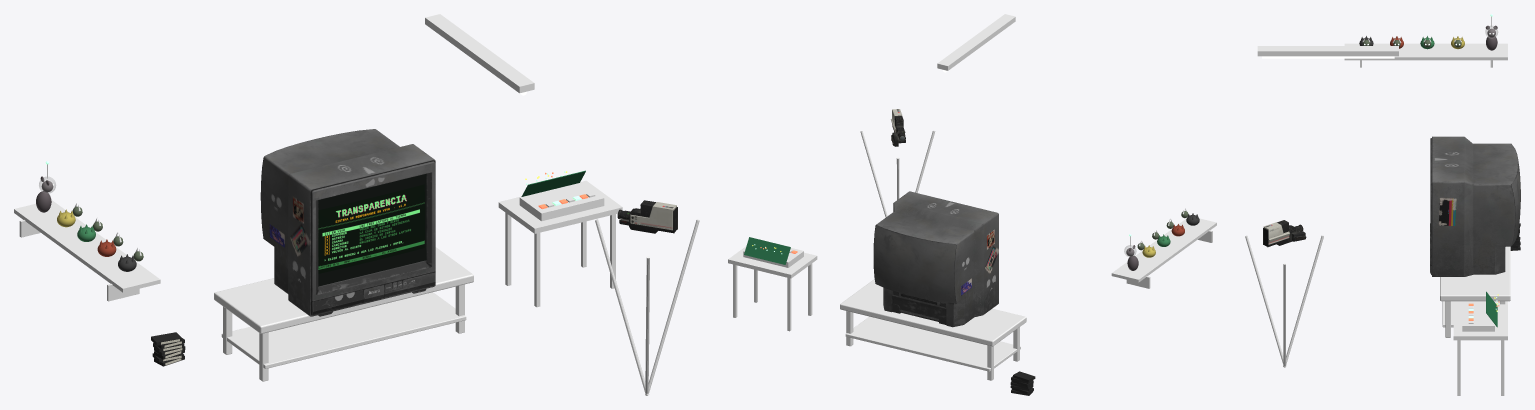
Rendered from cuarto.glb.
3 renders of one model, left to right at view 1: azimuth 30°, elevation 25°; view 2: azimuth 150°, elevation 25°; view 3: azimuth 270°, elevation 25°, orthographic. The views are drawn at different scales.
Visible parts, largest first — view 1: object 101, Repisa, TV_Pantalla, Mesa, Estante, TV_FondoNegro, Fluo_Base, Caja_Ritmos, MesaLado, Cube.002_low_Material_0_6, Cylinder.002, Cube.001_low_Material_0_4 (+2 smaller); view 2: object 101, Repisa, Mesa, Estante, Fluo_Base, MesaLado, Caja_PCB; view 3: object 101, Mesa, Estante, Fluo_Base, MesaLado, Caja_Ritmos, Cylinder.003, Cylinder.002, Fluo_Tubo, Cube.002_low_Material_0_6, Cube.001_low_Material_0_4, Cylinder.001 (+2 smaller).
Part boxes in pixels (box(x1,y1,x2,y2)): object 101: box(260, 129, 435, 316); Repisa: box(221, 292, 466, 368); TV_Pantalla: box(318, 184, 424, 273); Mesa: box(214, 247, 473, 333); Estante: box(14, 200, 160, 292); TV_FondoNegro: box(318, 173, 426, 286); Fluo_Base: box(425, 14, 534, 93); Caja_Ritmos: box(519, 182, 604, 221); MesaLado: box(498, 180, 622, 233); Cube.002_low_Material_0_6: box(630, 202, 676, 230); Cylinder.002: box(595, 219, 649, 395); Cube.001_low_Material_0_4: box(619, 200, 677, 233); object 101: box(873, 191, 998, 327); Repisa: box(845, 316, 1020, 371); Mesa: box(840, 279, 1026, 346); Estante: box(1111, 218, 1216, 282); Fluo_Base: box(937, 14, 1015, 70); MesaLado: box(728, 246, 817, 278); Caja_PCB: box(744, 237, 790, 264); object 101: box(1430, 136, 1520, 276); Mesa: box(1440, 246, 1510, 301); Estante: box(1344, 43, 1507, 60); Fluo_Base: box(1257, 46, 1398, 56); MesaLado: box(1453, 304, 1507, 340); Caja_Ritmos: box(1462, 303, 1494, 331); Cylinder.003: box(1245, 235, 1286, 367); Cylinder.002: box(1283, 235, 1323, 367); Fluo_Tubo: box(1262, 56, 1394, 58); Cube.002_low_Material_0_6: box(1263, 222, 1289, 244); Cube.001_low_Material_0_4: box(1263, 220, 1295, 247); Cylinder.001: box(1283, 263, 1285, 366).
Bounding box in the file's own units: 4.58 × 2.72 × 2.53.
Materials: 24 (3 with a texture image).
